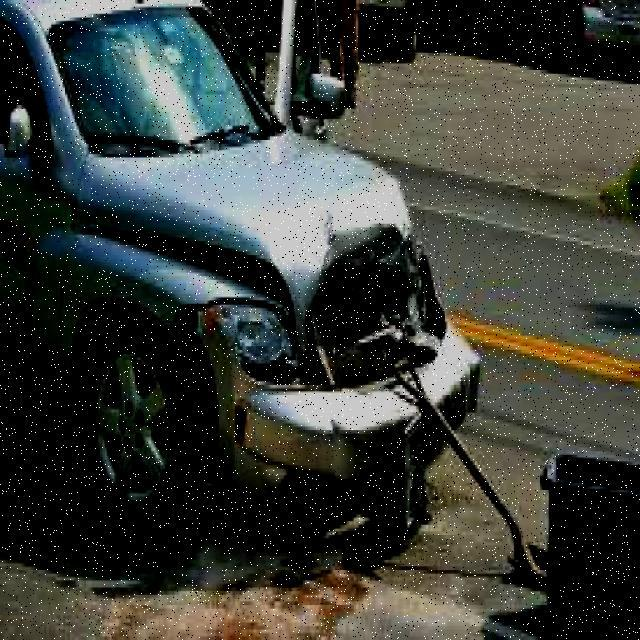car damage: (167, 208, 486, 528)
